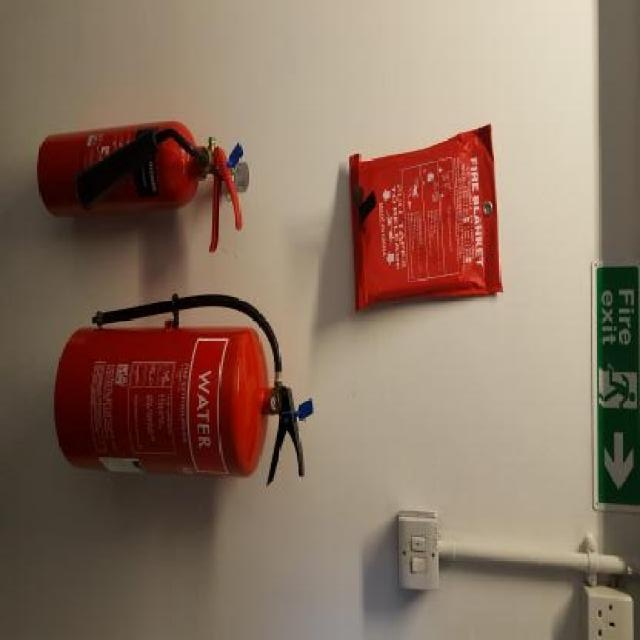fire extinguisher: (53, 293, 304, 485), (37, 121, 241, 255)
